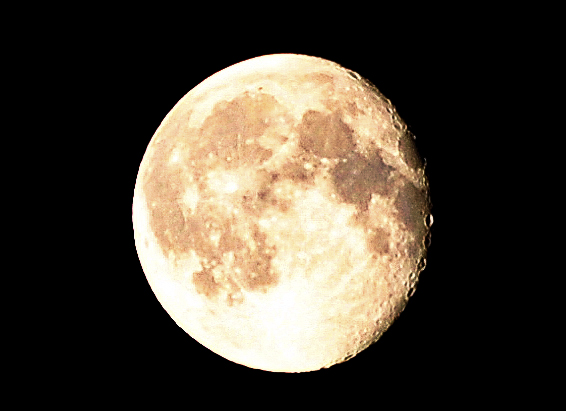crater: (218, 175, 244, 200), (415, 208, 438, 230), (178, 187, 198, 210), (251, 82, 273, 93)
